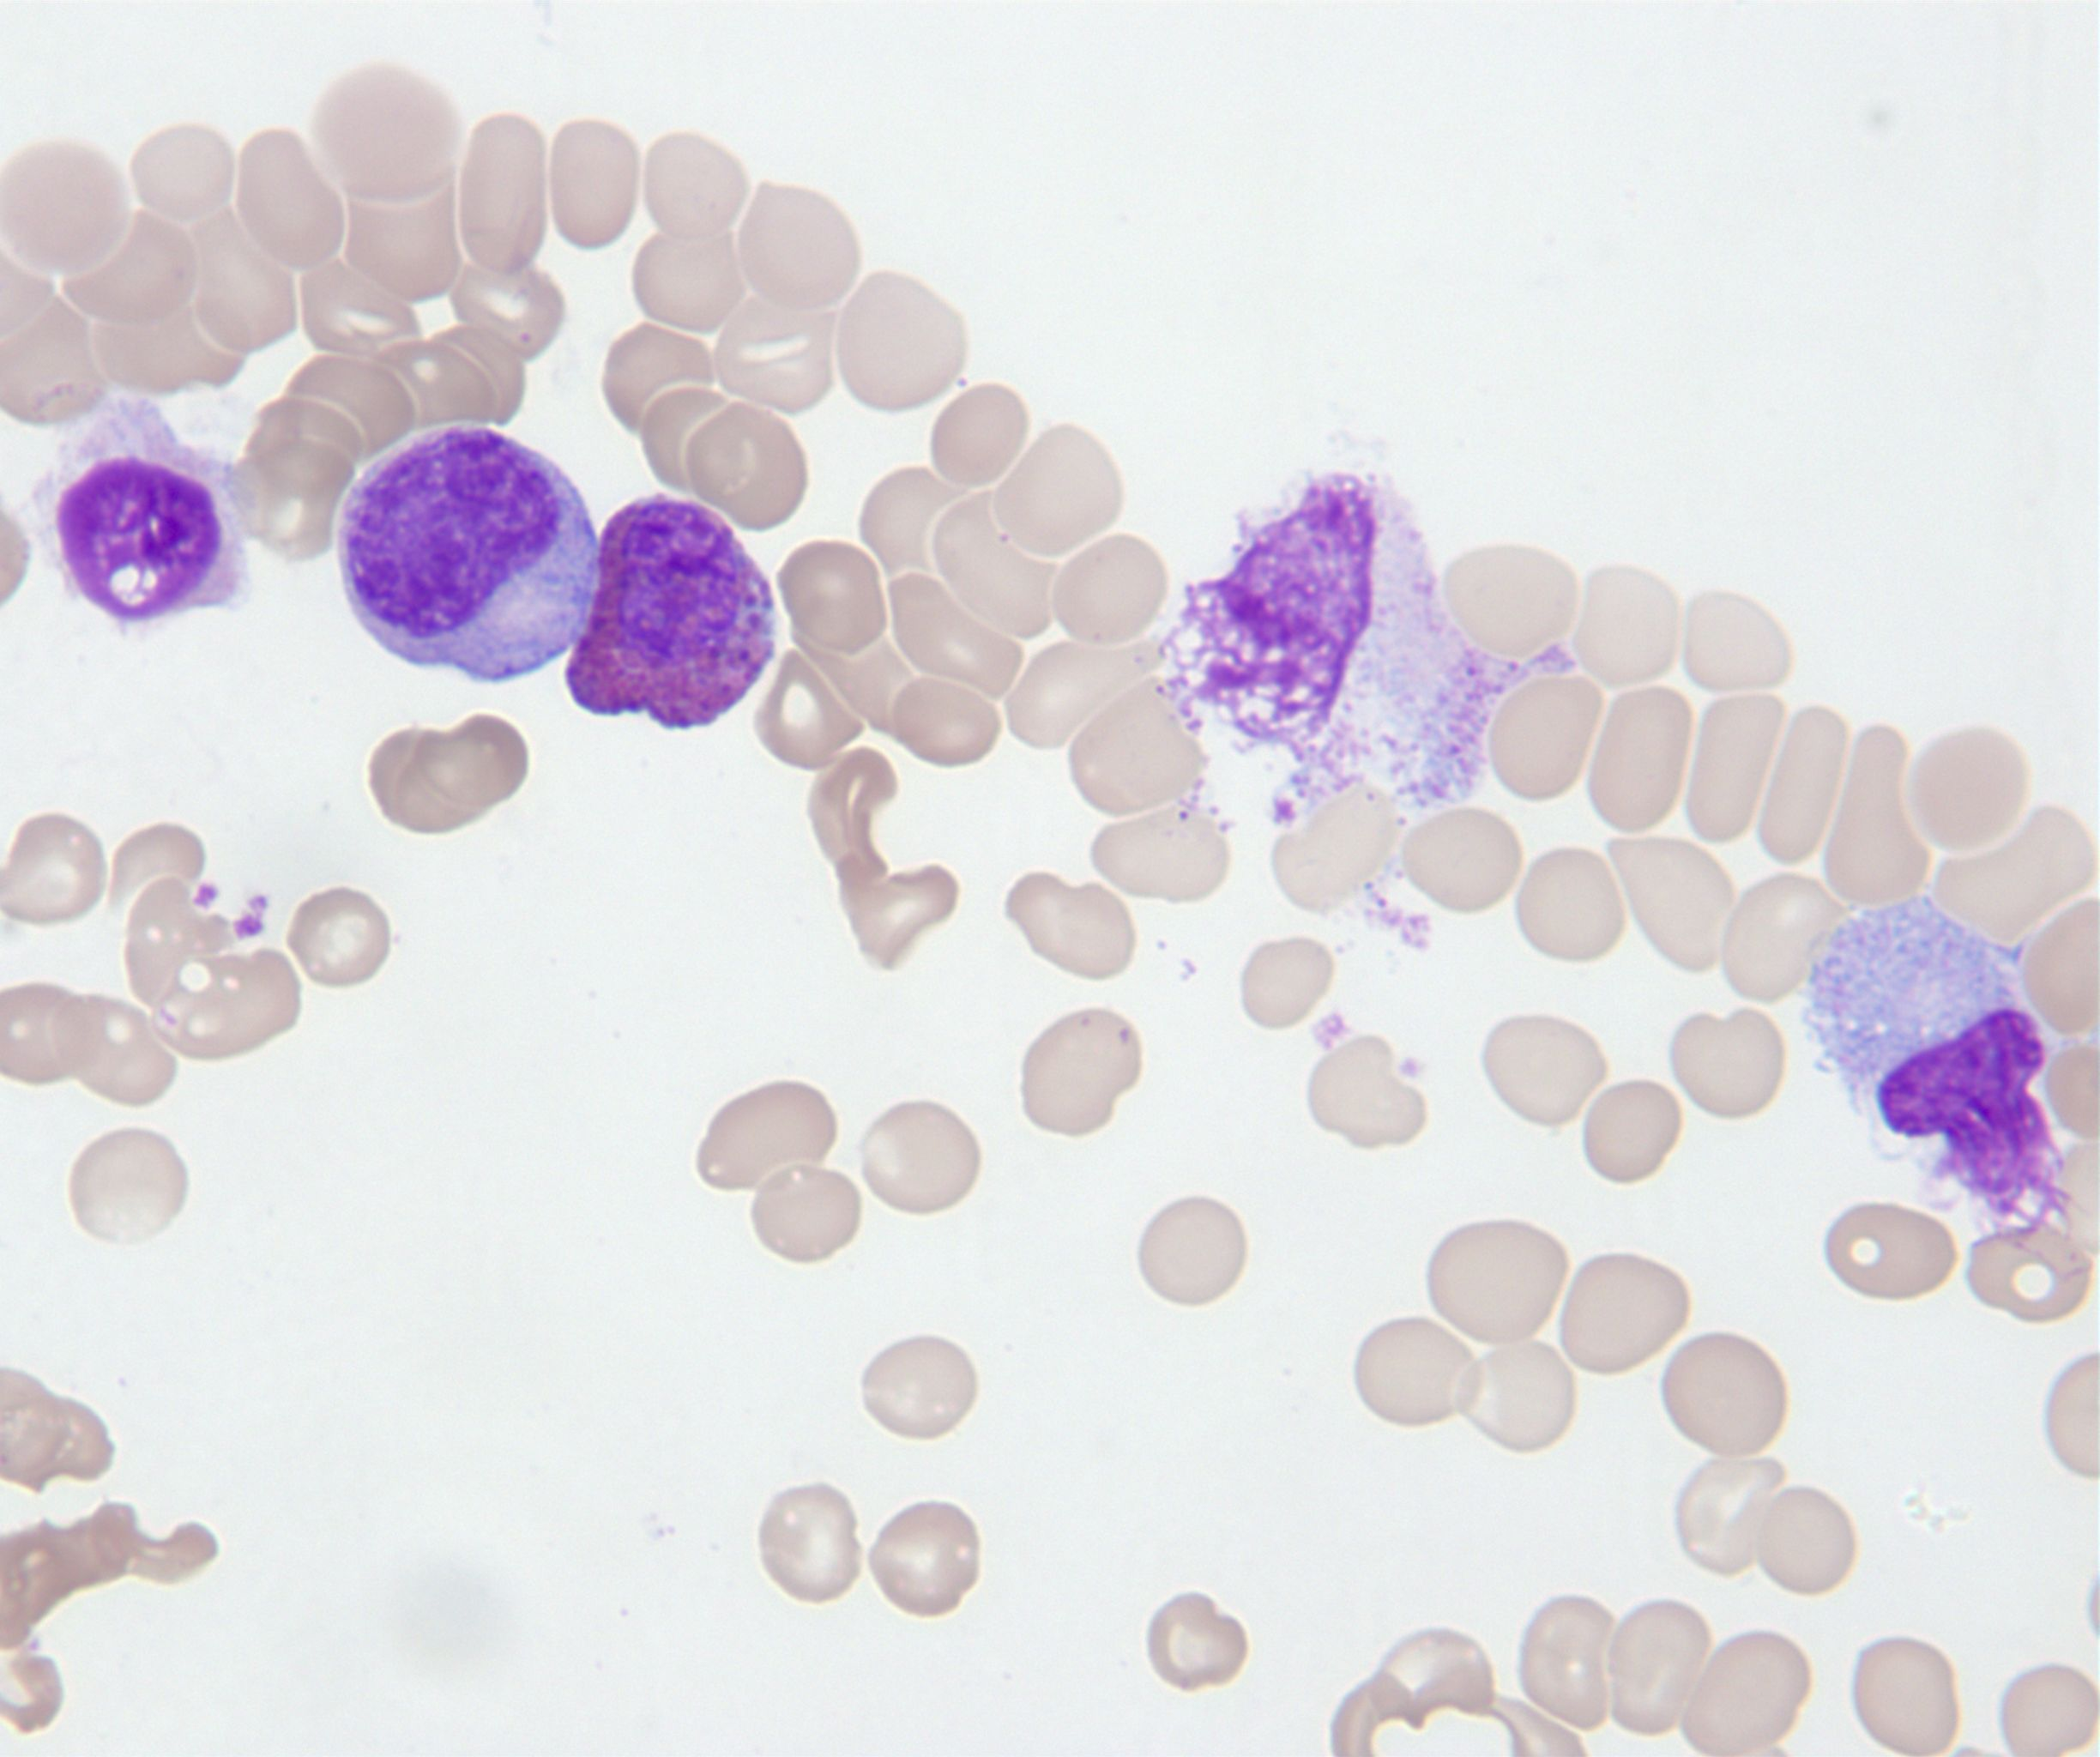3: (338, 424, 598, 680)
E4: (565, 490, 774, 729)
x: (1153, 466, 1575, 947), (1805, 895, 2077, 1253), (21, 386, 248, 630)
